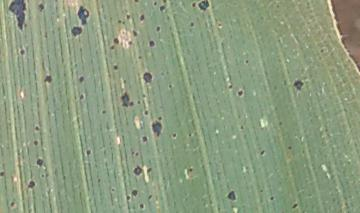tarspot: (7, 1, 28, 32), (76, 4, 90, 26), (119, 91, 134, 109), (150, 118, 163, 138), (142, 70, 154, 86), (69, 25, 83, 38), (292, 78, 305, 92), (197, 1, 212, 12), (132, 164, 143, 177), (225, 190, 237, 201), (43, 74, 53, 85), (35, 158, 44, 169), (111, 35, 119, 47), (26, 180, 36, 189), (158, 3, 167, 13), (37, 2, 45, 13), (130, 188, 138, 199), (111, 63, 120, 72), (141, 134, 149, 144), (236, 88, 244, 98), (31, 139, 40, 147), (258, 148, 266, 157), (131, 28, 138, 38), (8, 201, 16, 209), (84, 148, 92, 156), (291, 202, 299, 210), (146, 193, 154, 201), (60, 174, 68, 182), (78, 75, 85, 84), (148, 39, 155, 48), (138, 13, 145, 22), (96, 176, 103, 185), (134, 149, 140, 159), (43, 30, 49, 40), (18, 48, 25, 56), (33, 125, 41, 132), (190, 1, 197, 9), (78, 93, 85, 101), (142, 109, 150, 116), (154, 25, 161, 33), (108, 44, 116, 51), (125, 13, 132, 21), (138, 202, 145, 210), (125, 193, 131, 202), (286, 144, 293, 151), (126, 39, 133, 46), (140, 91, 147, 98), (171, 132, 177, 140), (121, 78, 127, 86), (238, 123, 244, 131), (39, 172, 45, 180), (227, 84, 234, 90), (243, 58, 249, 65), (318, 47, 325, 53), (187, 167, 193, 174), (146, 167, 152, 174), (135, 98, 141, 105), (167, 82, 173, 89), (277, 120, 283, 127), (216, 22, 223, 28), (100, 109, 106, 115), (116, 18, 122, 24), (137, 54, 143, 60), (269, 195, 275, 201), (110, 187, 116, 193), (1, 171, 6, 178), (156, 115, 163, 120), (189, 21, 194, 28), (187, 131, 192, 138), (152, 1, 157, 6), (161, 1, 167, 4), (132, 1, 139, 3)
